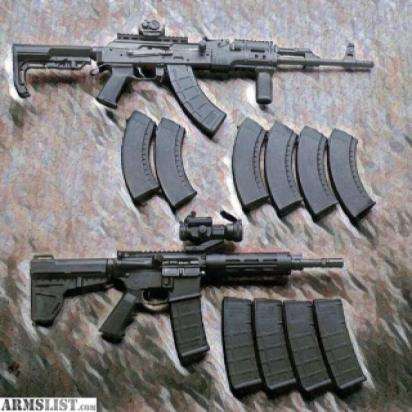Gun: (6, 223, 345, 360), (8, 21, 376, 135)
